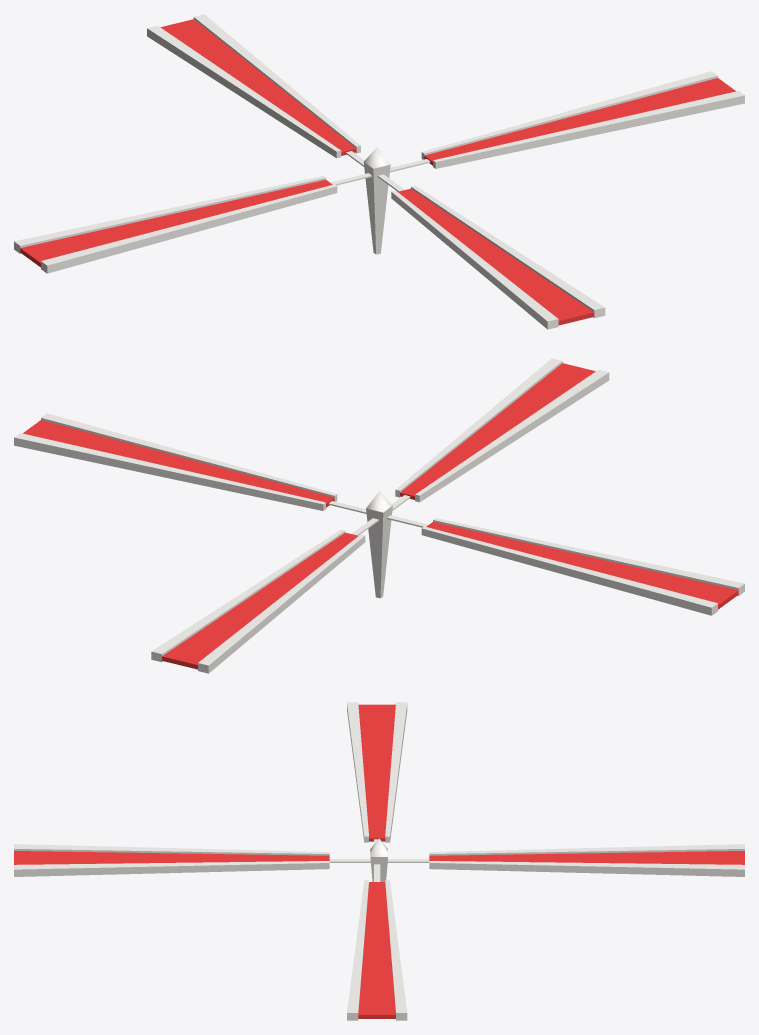
The model's file is Blade R.FBX.
3 renders of one model, top to bottom at view 1: azimuth 30°, elevation 25°; view 2: azimuth 150°, elevation 25°; view 3: azimuth 270°, elevation 25°, orthographic. The views are drawn at different scales.
Visible parts, largest first — view 1: Box002; view 2: Box002; view 3: Box002.
Part boxes in pixels (x1,y1,x2,y2): Box002: (14,14,744,329); Box002: (14,358,744,673); Box002: (14,702,744,1020).
Size of the model in its own units: 28.55 by 4.15 by 28.4.
